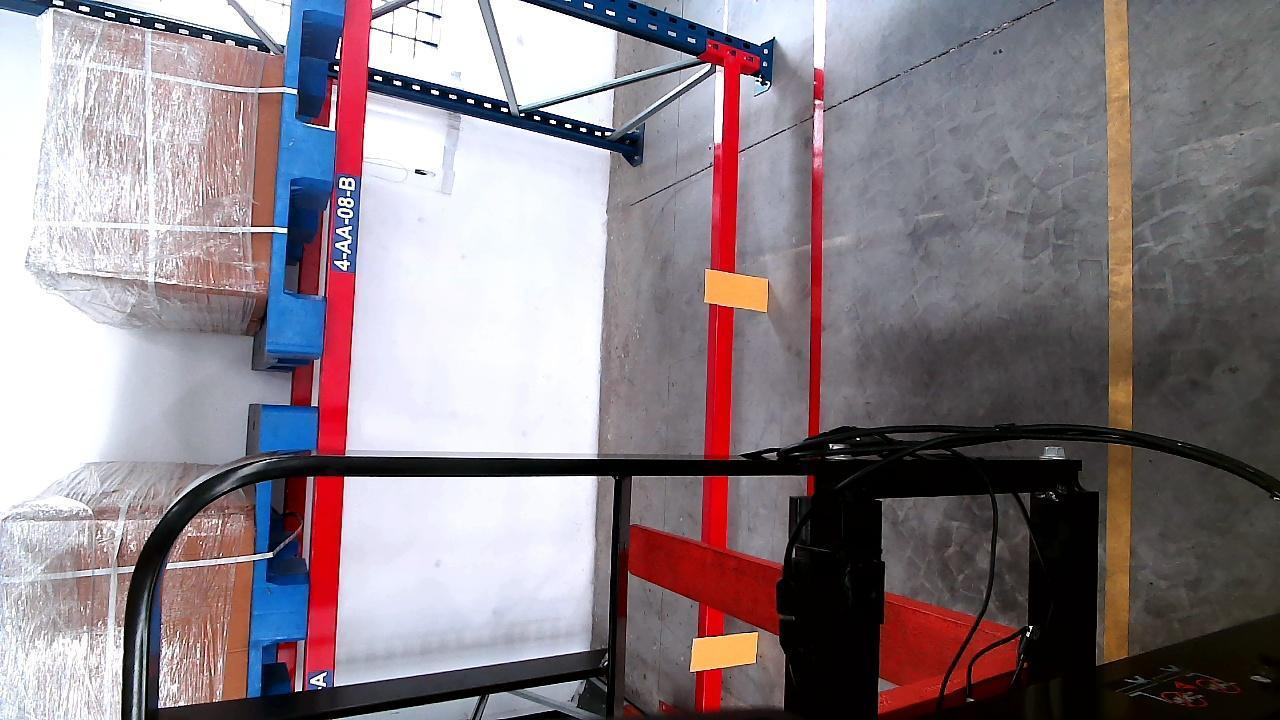h_rack: (306, 0, 368, 688), (694, 70, 747, 719)
orange_strip: (692, 629, 762, 671), (709, 272, 769, 310)
red_line: (806, 13, 830, 436)
small_pallet: (268, 0, 346, 356), (250, 410, 318, 691)
yellow_line: (1103, 0, 1141, 670)
